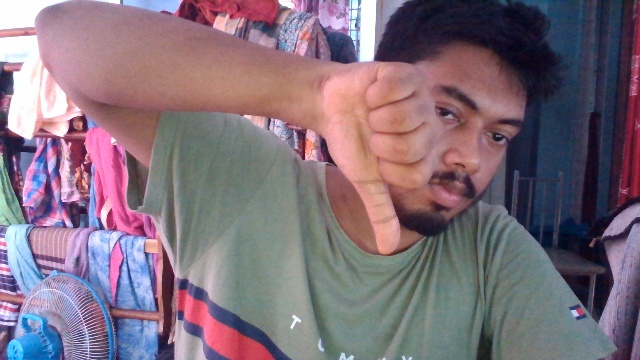no: (306, 49, 438, 270)
